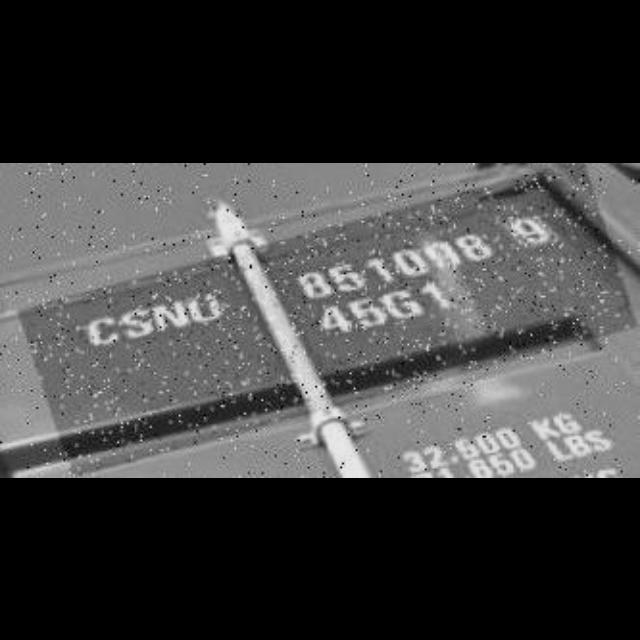0: (392, 244, 430, 278), (509, 444, 536, 474), (479, 426, 499, 456), (502, 420, 520, 450)
1: (422, 278, 462, 318), (367, 250, 397, 290)
2: (426, 442, 448, 471)
3: (399, 442, 429, 476)
4: (314, 299, 356, 339)
5: (327, 259, 369, 297), (347, 293, 389, 331)
6: (455, 431, 479, 464), (492, 446, 514, 476)
8: (454, 228, 496, 266), (294, 266, 334, 300), (465, 457, 491, 478)
9: (422, 236, 466, 278), (509, 212, 551, 252)
b: (562, 432, 594, 460)
c: (82, 309, 121, 349)
g: (377, 286, 425, 324), (553, 407, 585, 438)
k: (524, 413, 560, 442)
l: (542, 438, 576, 466)
n: (150, 292, 190, 334)
s: (118, 301, 156, 344), (584, 426, 614, 452)
u: (188, 283, 222, 331)
